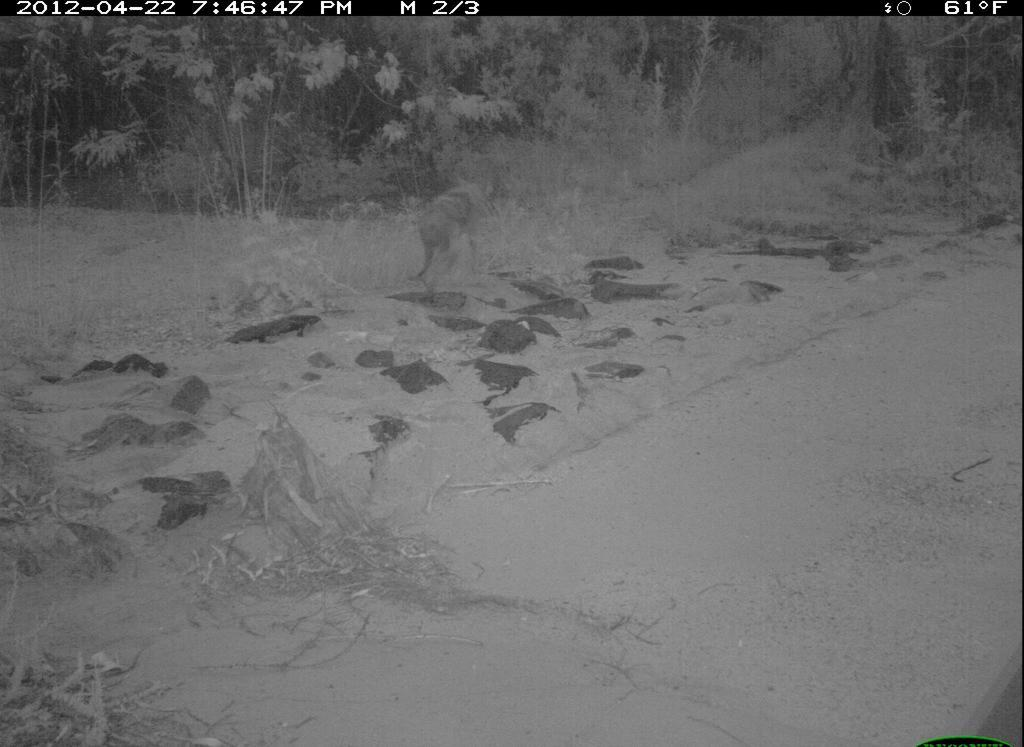coyote: (404, 159, 500, 299)
